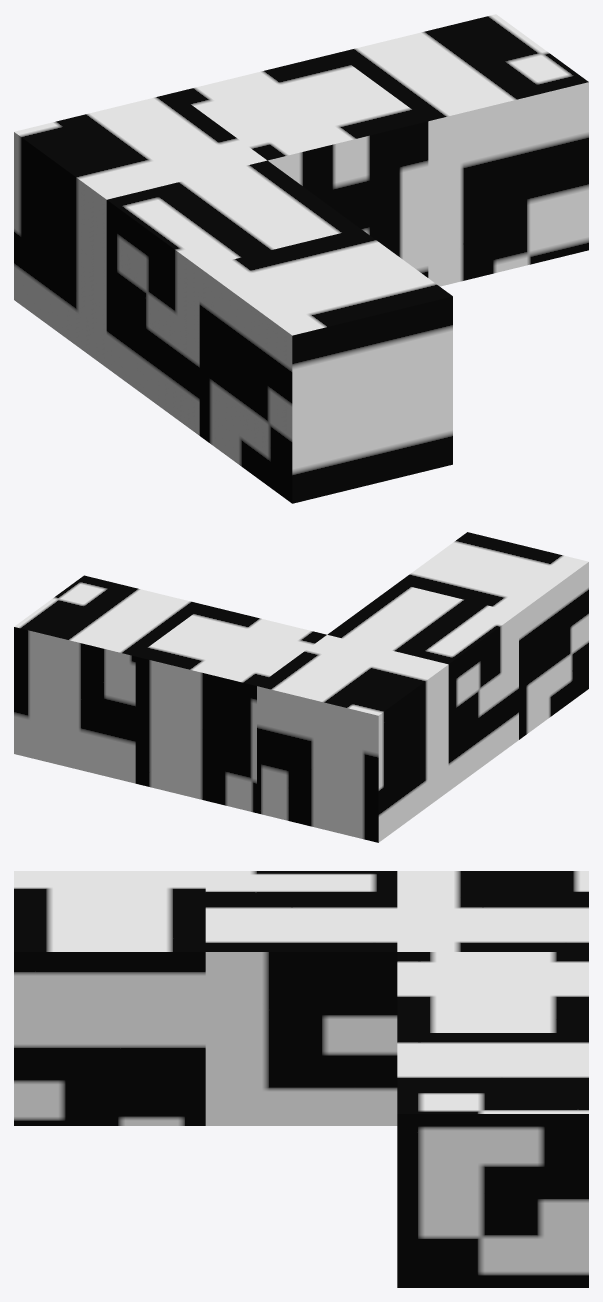
3 renders of one model, top to bottom at view 1: azimuth 30°, elevation 25°; view 2: azimuth 150°, elevation 25°; view 3: azimuth 270°, elevation 25°, orthographic. The views are drawn at different scales.
Bounding box in the file's own units: 0.072 × 0.024 × 0.072.
